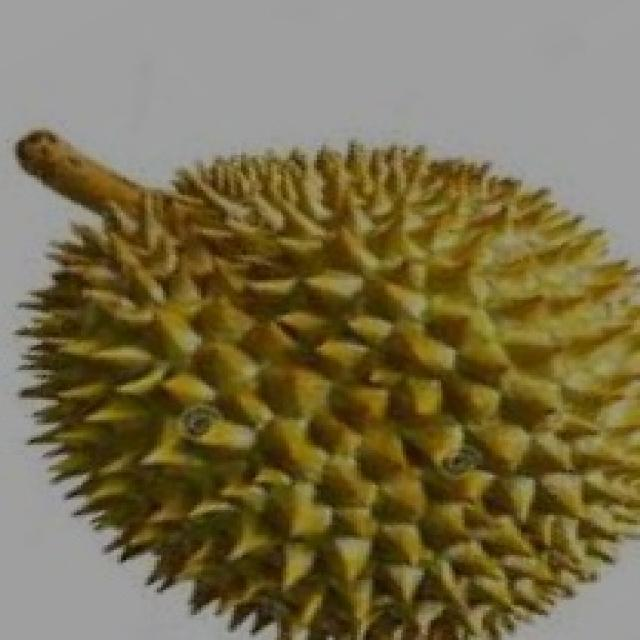fruit: (0, 262, 372, 639), (323, 275, 637, 640)
